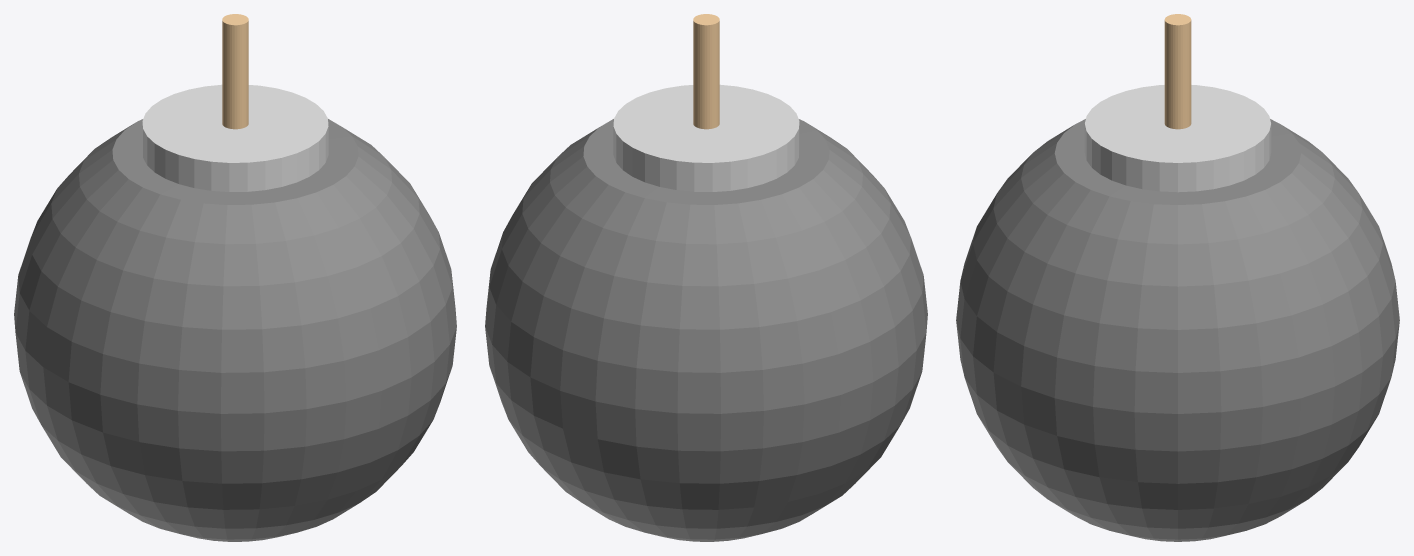
The model's file is Bomb.fbx.
The picture shows the model from 3 angles, left to right: view 1: azimuth 30°, elevation 25°; view 2: azimuth 150°, elevation 25°; view 3: azimuth 270°, elevation 25°; orthographic projection.
Visible parts, largest first — view 1: 球, 円柱, 円柱.001; view 2: 球, 円柱, 円柱.001; view 3: 球, 円柱, 円柱.001.
Boxes of the visible parts, x1,y1,x2,y2 form: 球: (14, 119, 456, 541); 円柱: (142, 84, 328, 191); 円柱.001: (222, 14, 248, 129); 球: (485, 119, 927, 541); 円柱: (613, 84, 799, 191); 円柱.001: (693, 14, 719, 129); 球: (956, 119, 1399, 541); 円柱: (1084, 85, 1271, 192); 円柱.001: (1164, 14, 1191, 129).
Size of the model in its own units: 200 by 249 by 200.
